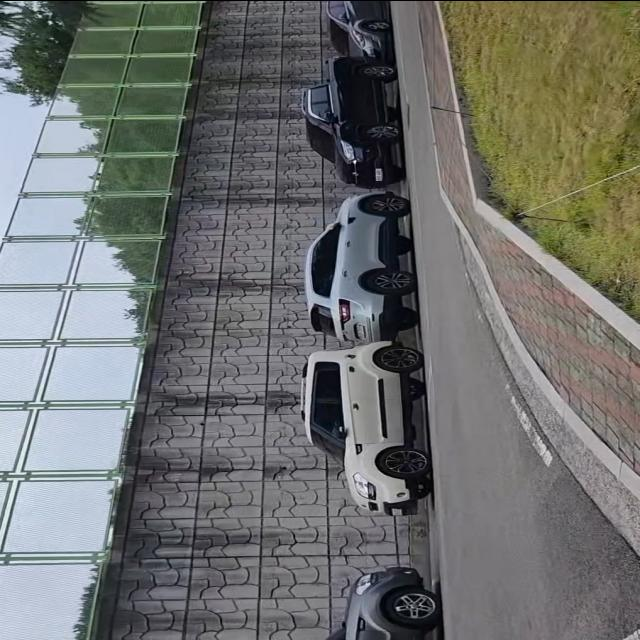obstacle: (296, 52, 403, 190), (306, 560, 437, 640), (320, 0, 390, 58)
road: (391, 0, 640, 640)
sidewalk: (407, 0, 640, 485)
